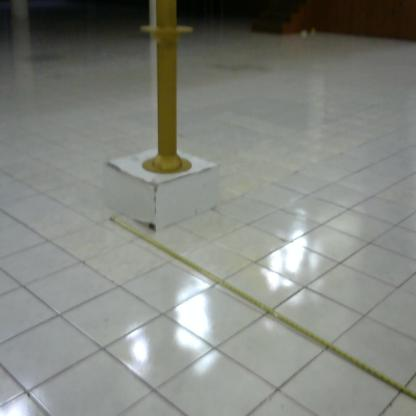pole: (132, 1, 202, 188)
